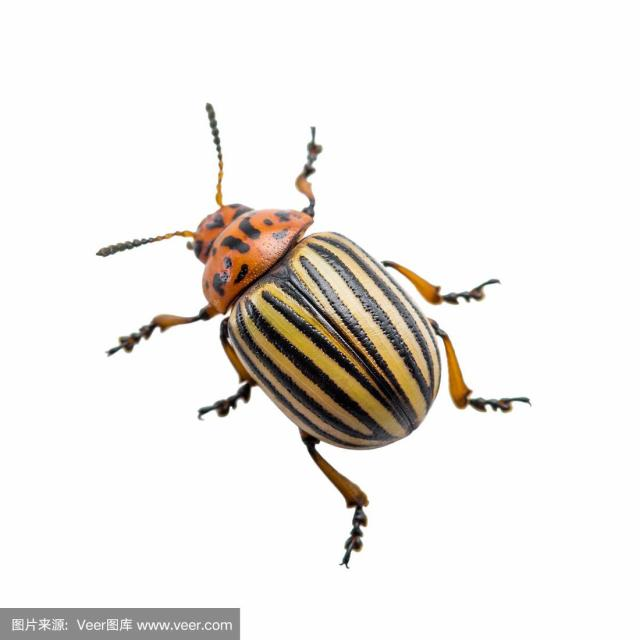ShuCaiHuaBanChong-Grown-: (156, 140, 479, 495)
